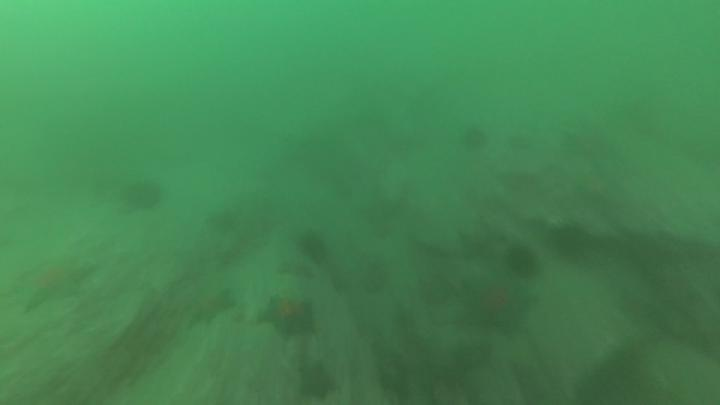echinus: (501, 241, 543, 281), (125, 176, 166, 215), (296, 232, 334, 268), (461, 123, 490, 154)
starfish: (455, 268, 534, 339), (258, 294, 322, 347), (566, 162, 627, 210), (185, 287, 237, 331), (294, 358, 337, 403), (277, 258, 319, 283)
